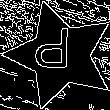P_S: (41, 30, 80, 81)
